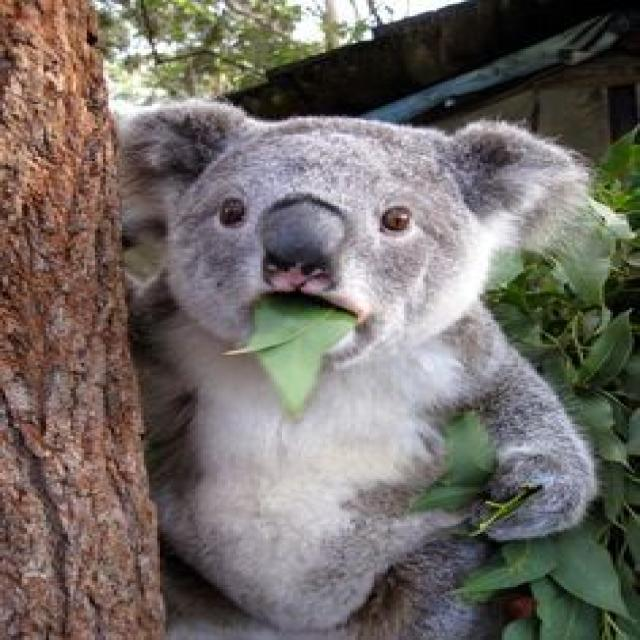Herbivorous: (119, 102, 605, 640)
